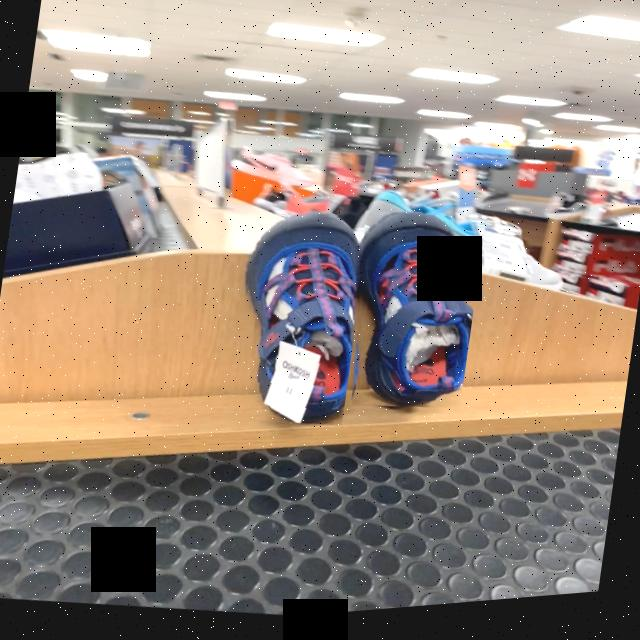shoe: (248, 221, 360, 429), (361, 220, 473, 414)
